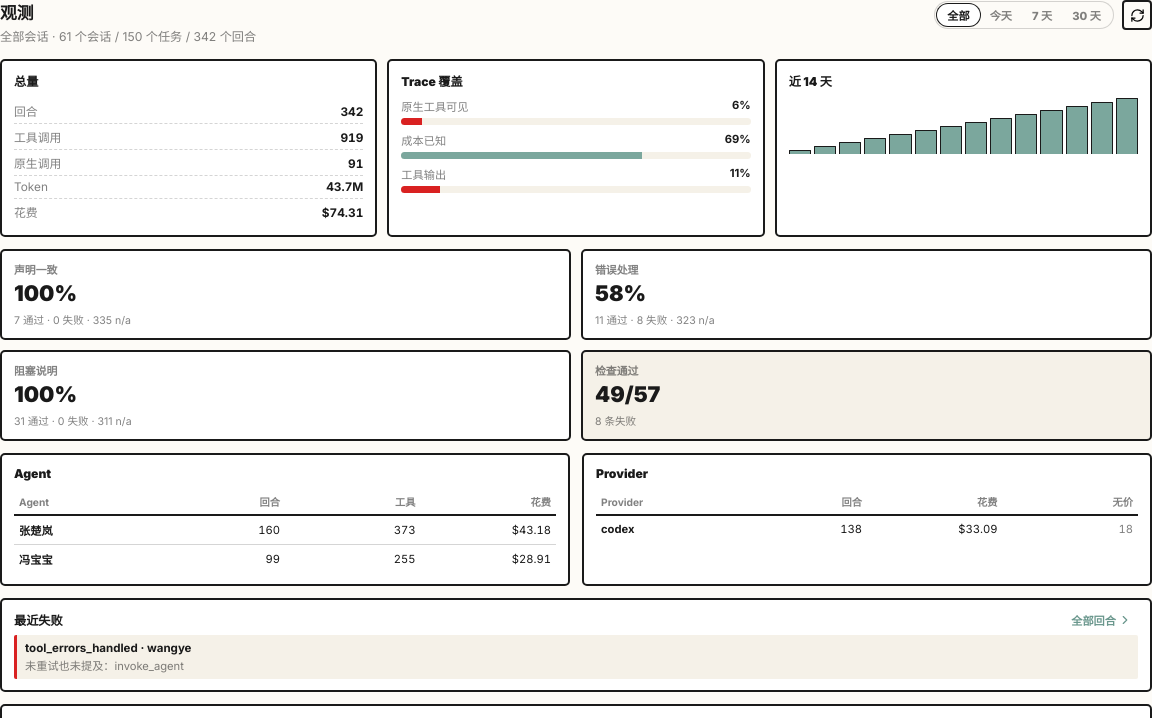
Test case: ObservabilityOverview › drills from the overview into a single turn and back
The image size is (1152, 718).
Expected: the text "全部会话 · 61 个会话 / 150 个任务 / 342 个回合" is shown, [0,27,256,45]
Click the button "全部回合" at (1102, 620), box [1065,611,1138,629]
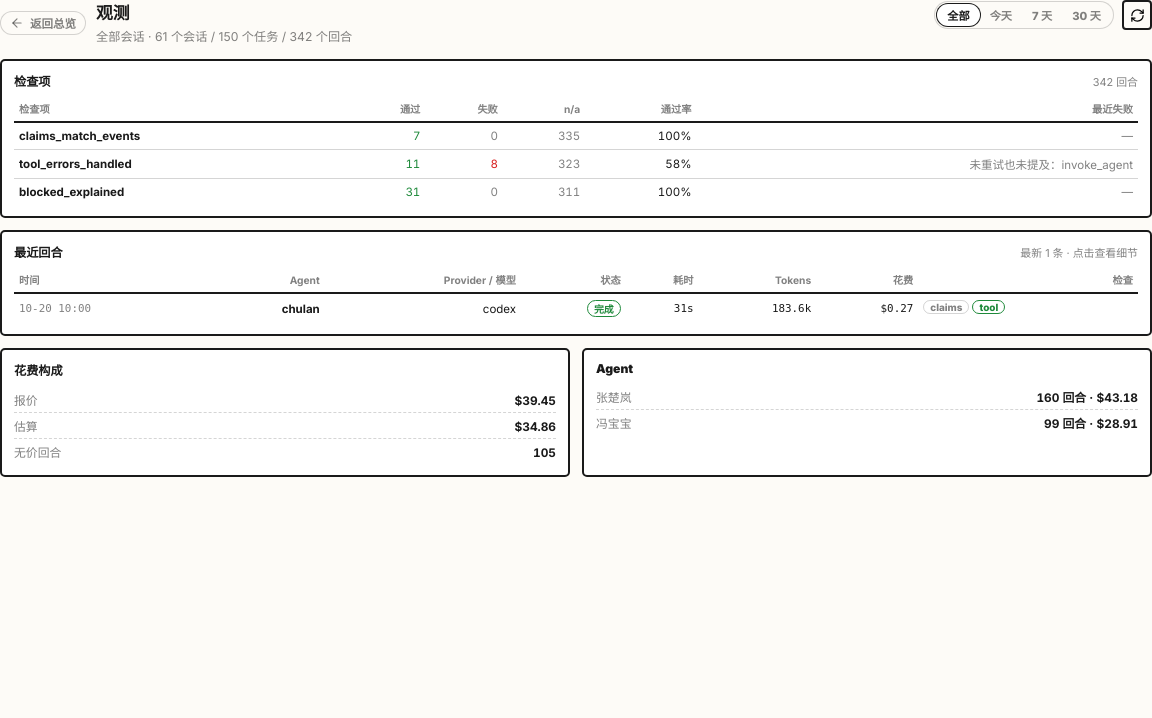
Expected: the text "183.6k" is shown, [698,293,816,323]
Click the button with aria-label "查看 chulan 的回合细节" at (55, 308), box [14,293,1138,323]
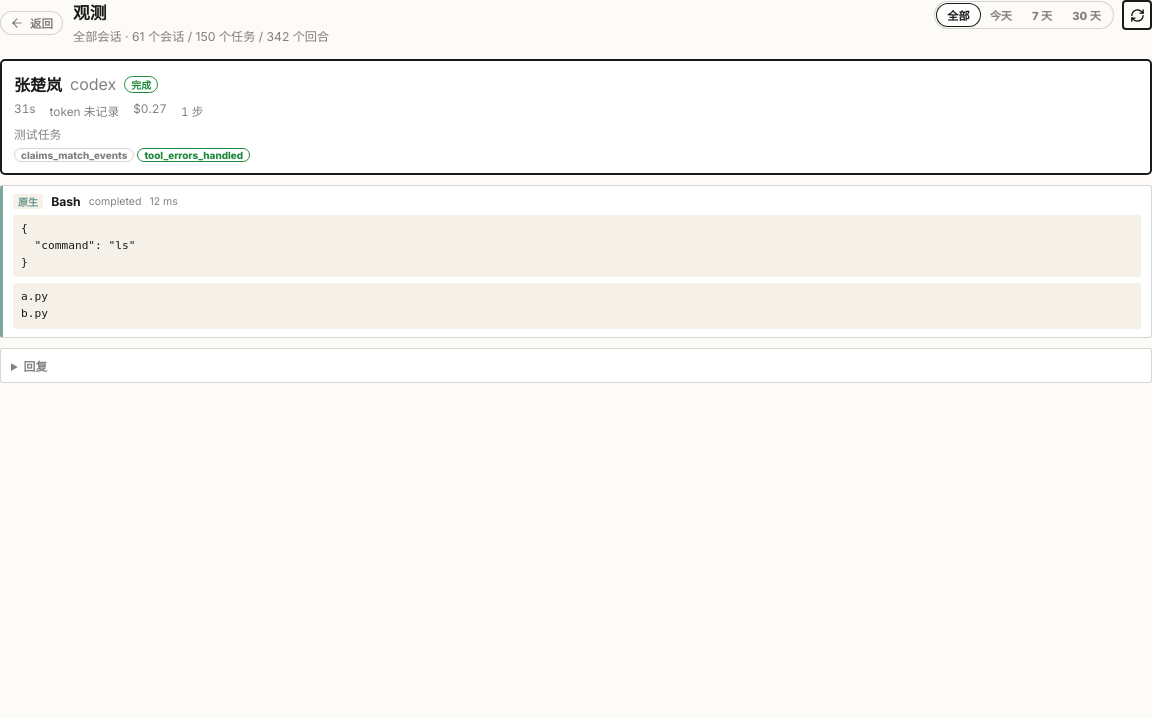
Expected: the text "a.py b.py" is shown, [13,283,1141,329]
Expected: the text "{ \"command\": \"ls\" }" is shown, [13,215,1141,277]
Click the button "返回" at (32, 22), box [0,10,63,34]
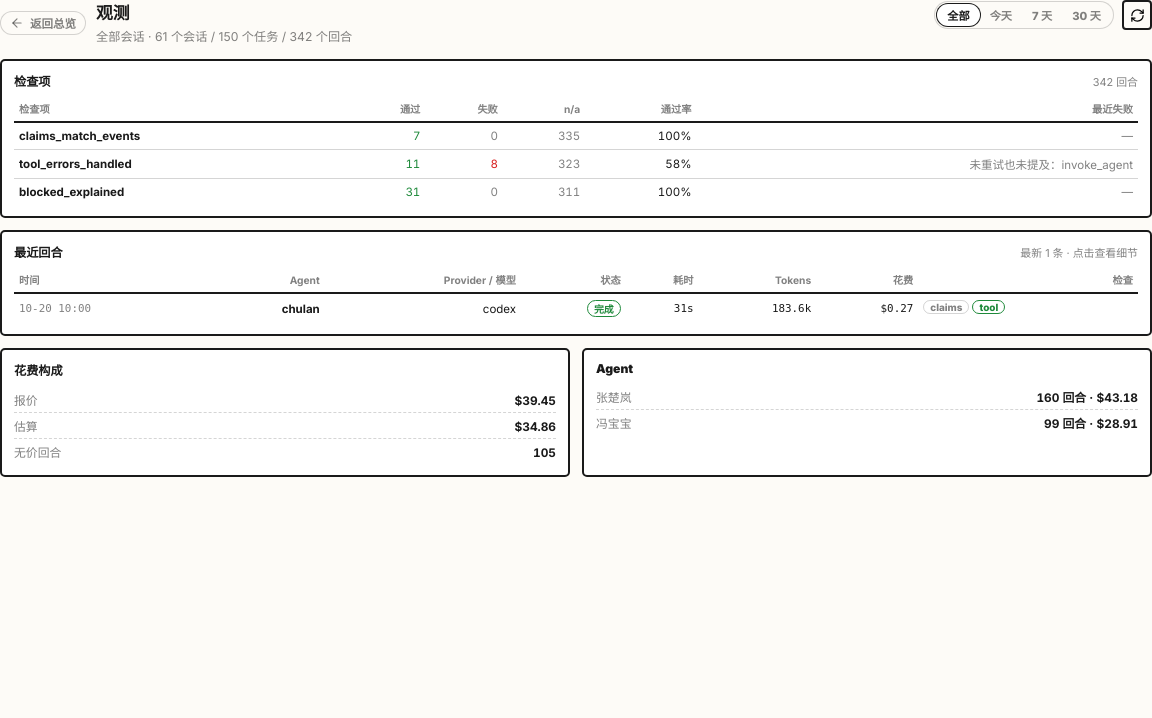
Expected: the heading "最近回合" is shown, [14,243,63,261]
Click the button "返回总览" at (43, 22), box [0,10,86,34]
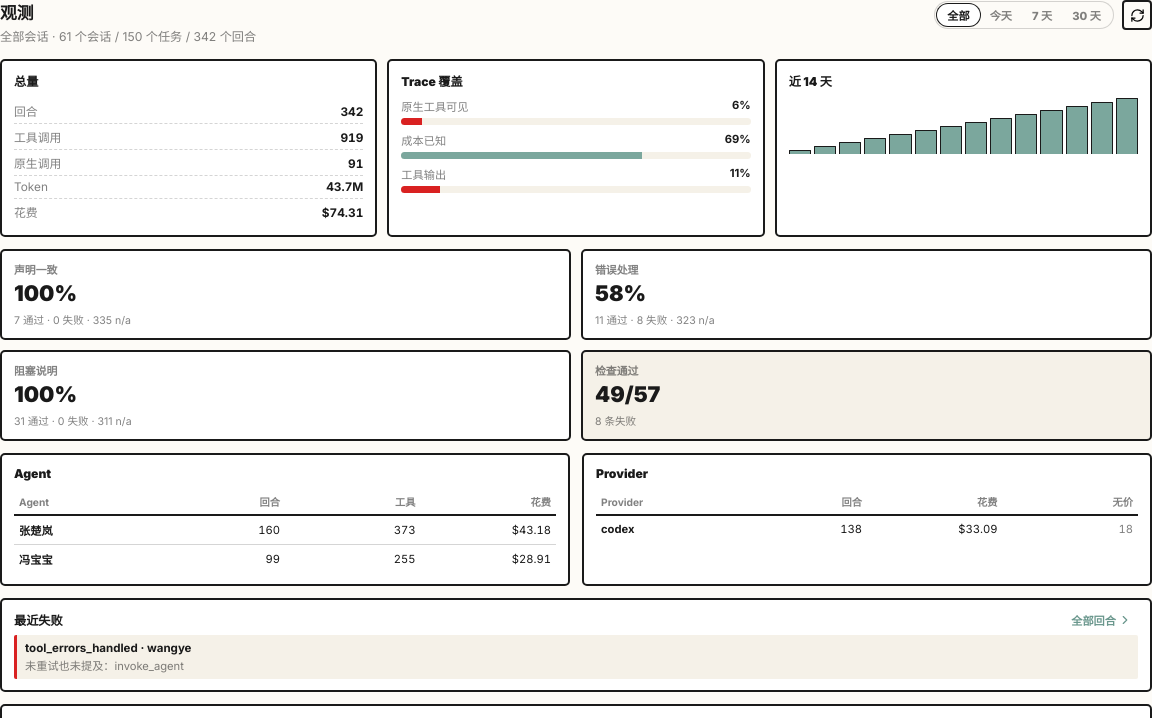
Expected: the heading "Trace 覆盖" is shown, [401,74,463,89]
